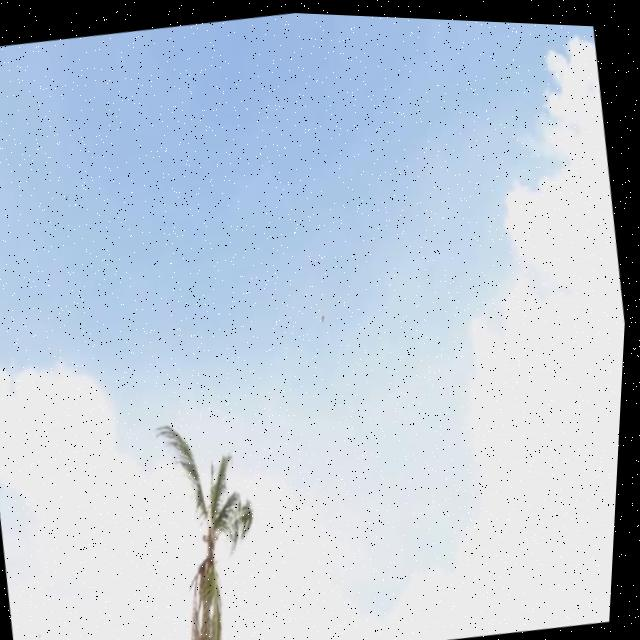drones: (320, 309, 332, 324)
